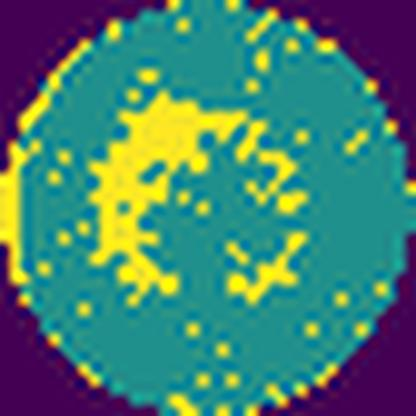Donut: (84, 87, 323, 309)
